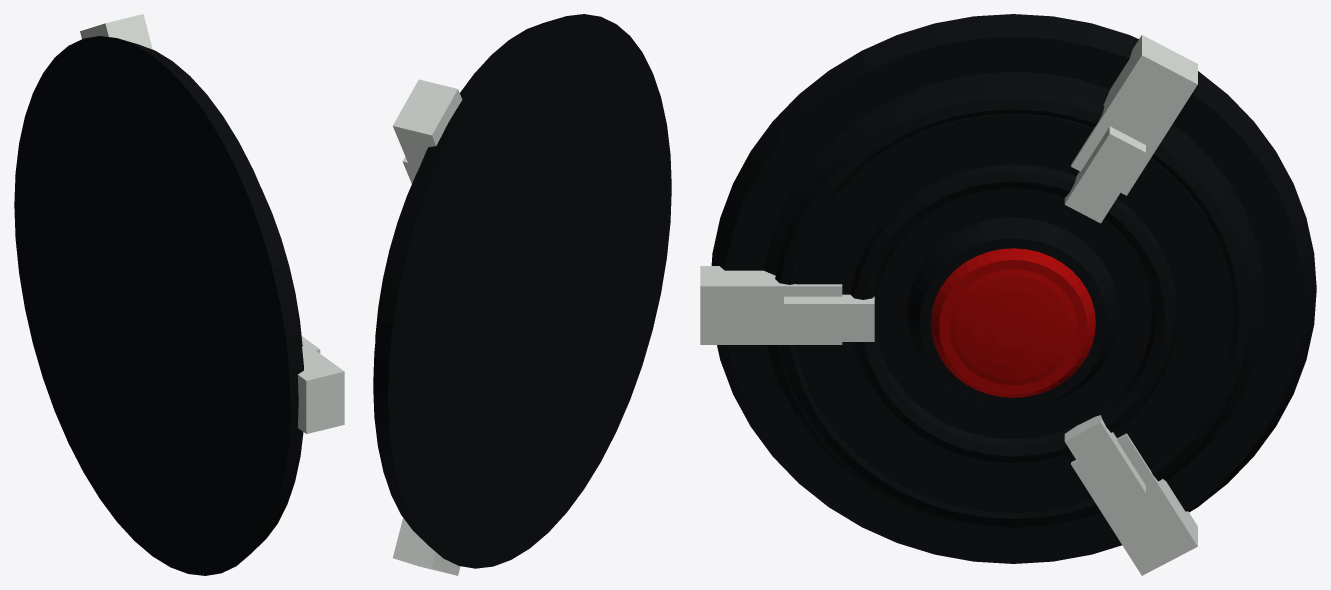
File: SM_LaserReceiver.obj
3 renders of one model, left to right at view 1: azimuth 30°, elevation 25°; view 2: azimuth 150°, elevation 25°; view 3: azimuth 270°, elevation 25°, orthographic. The views are drawn at different scales.
Visible parts, largest first — view 1: SM_LaserReceiver; view 2: SM_LaserReceiver; view 3: SM_LaserReceiver.
Boxes of the visible parts, x1=… form: SM_LaserReceiver: x1=14, y1=14, x2=344, y2=575; SM_LaserReceiver: x1=373, y1=14, x2=671, y2=575; SM_LaserReceiver: x1=700, y1=14, x2=1316, y2=575.
Size of the model in its own units: 29.5 by 188 by 191.
